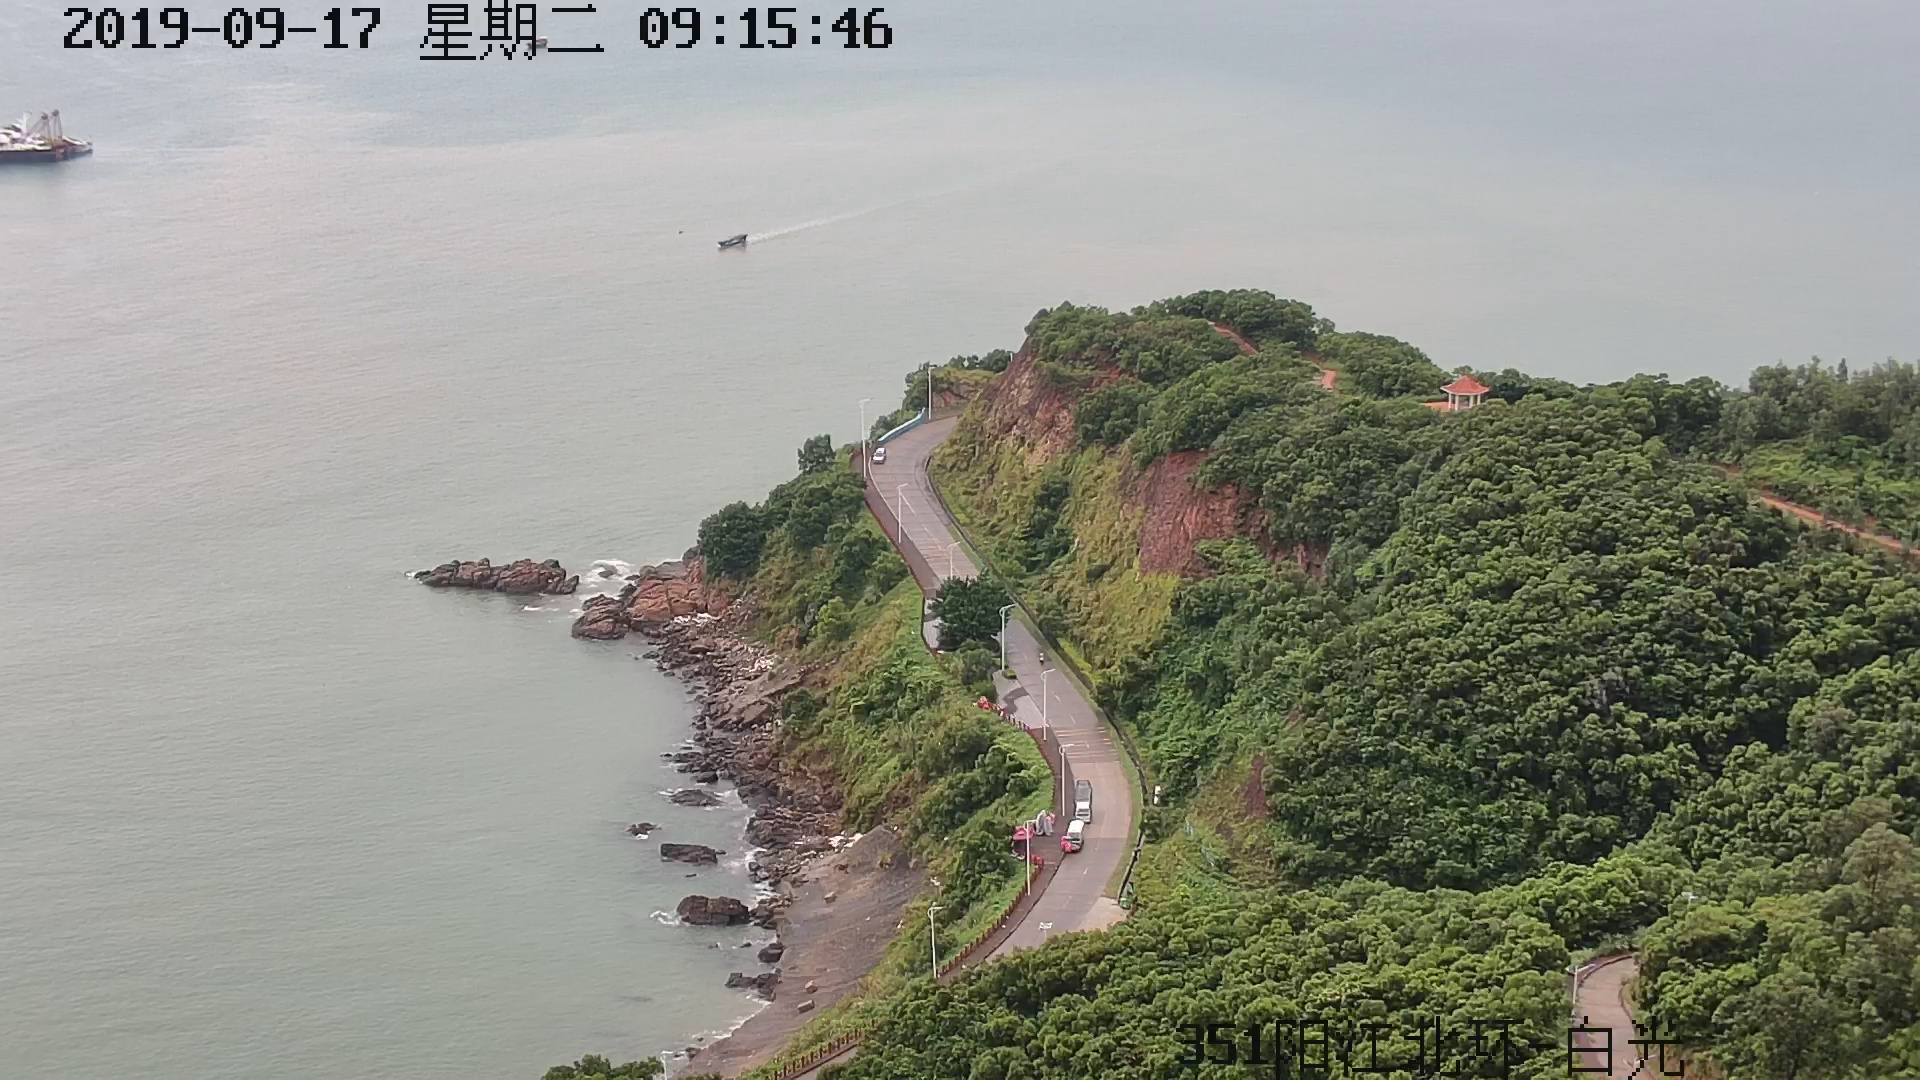ship: (713, 224, 746, 255)
